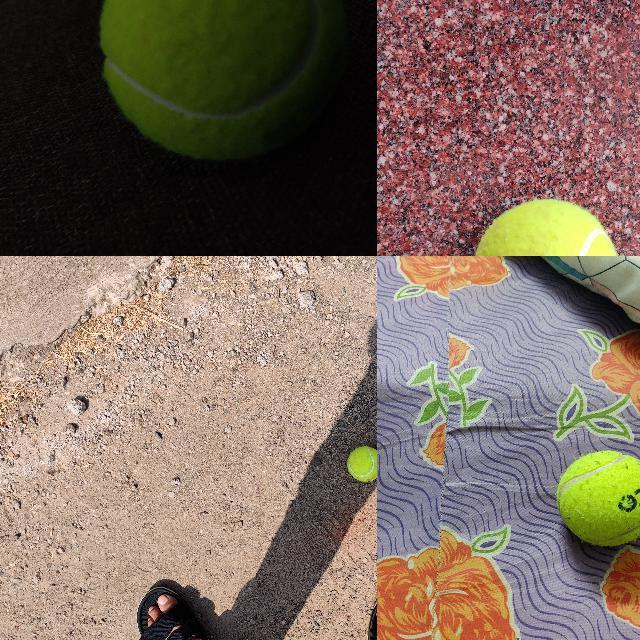tennis-ball: (98, 0, 350, 158), (472, 199, 618, 255), (556, 450, 639, 547), (347, 445, 376, 481)
